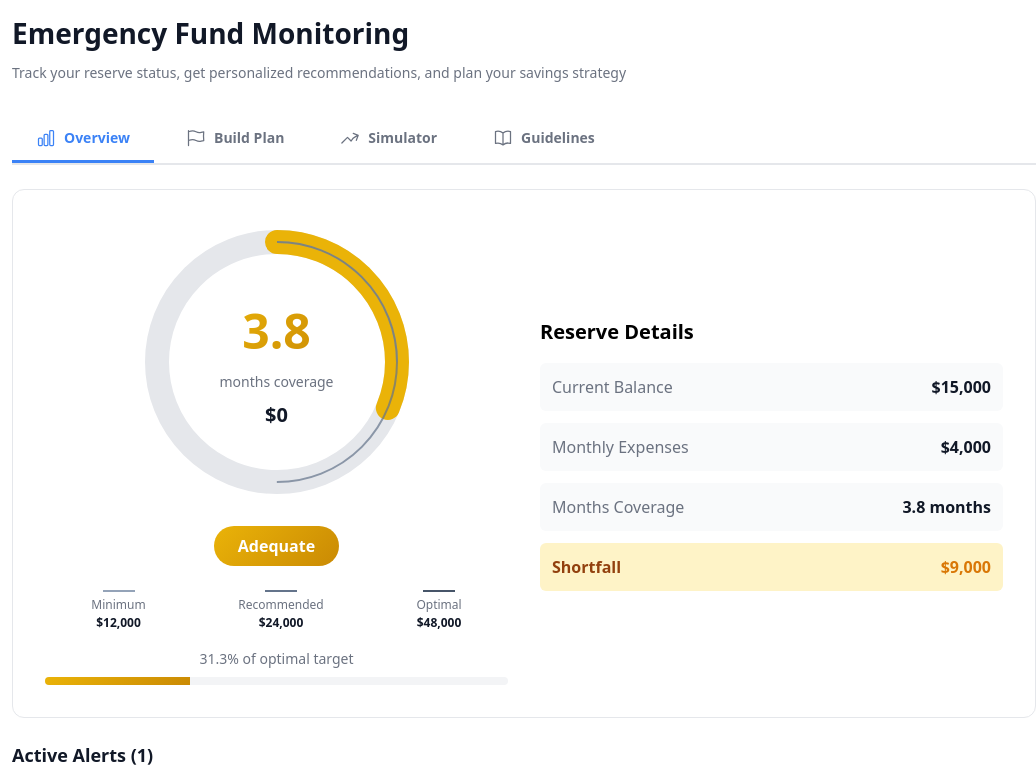
Test: ReserveMonitoringDashboard › switches between tabs correctly
This screenshot has width=1036, height=777.
Expected: the heading "Emergency Fund Monitoring" is shown, [12,14,409,52]
Note: Click on Build Plan tab
Click the button "Build Plan" at point(235, 139), box [162,115,308,163]
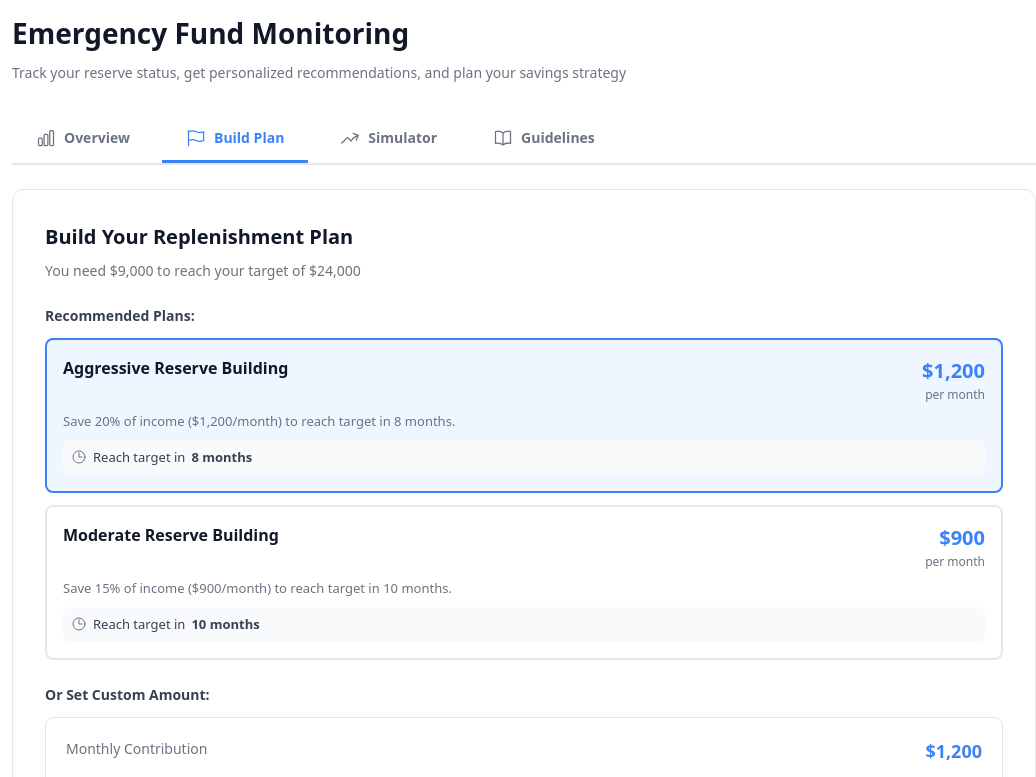
Now the heading "Build Your Replenishment Plan" is shown, box [45,223,353,250]
Note: Click on Guidelines tab
Click the button "Guidelines" at point(544, 139), box [469,115,619,163]
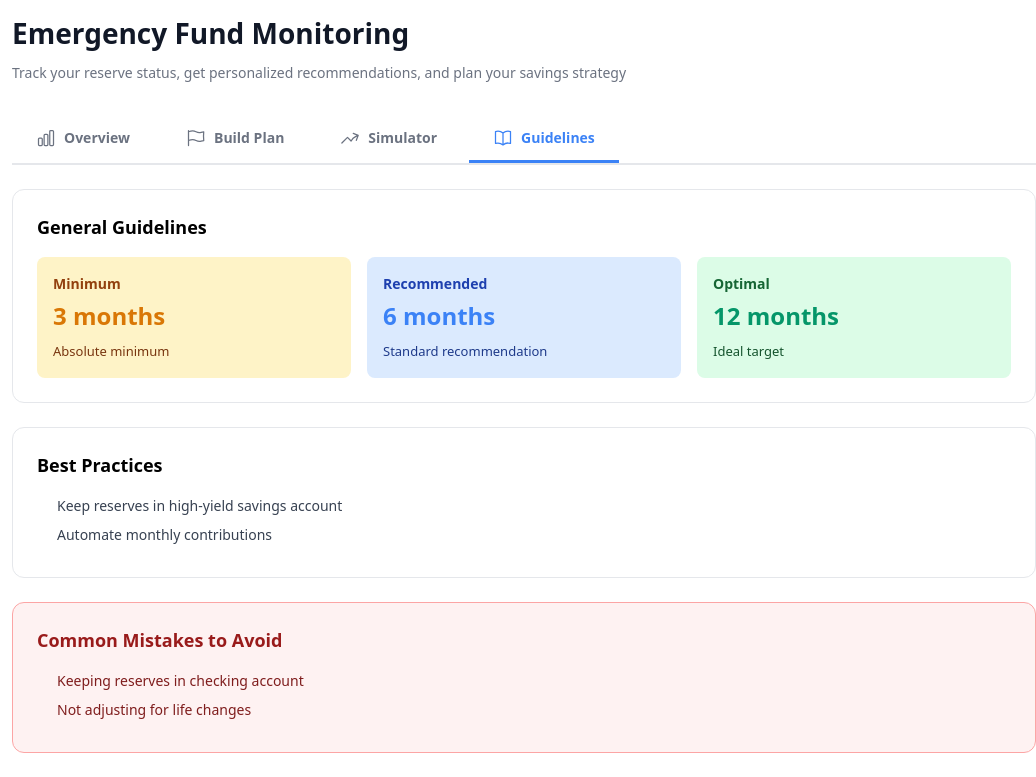
Now the heading "General Guidelines" is shown, box [37,215,207,239]
